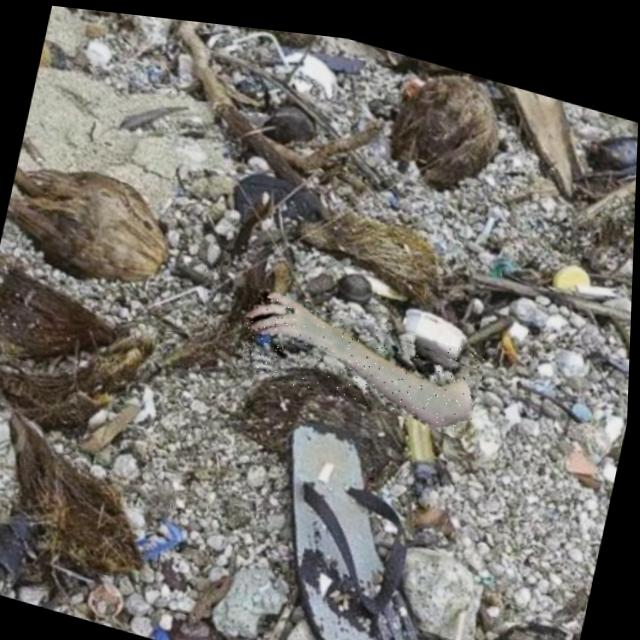Person in Rubble: (234, 280, 488, 425)
